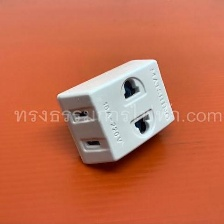three_eye_plug: (53, 56, 178, 168)
